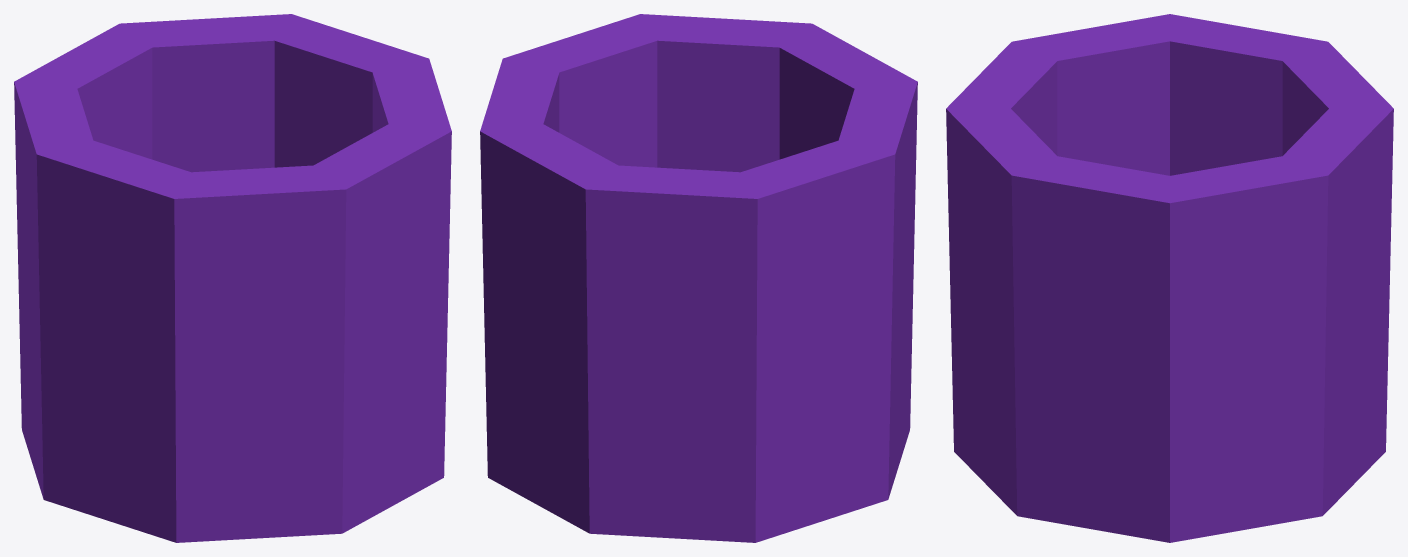
Rendered from PenCup.fbx.
The picture shows the model from 3 angles, left to right: view 1: azimuth 30°, elevation 25°; view 2: azimuth 150°, elevation 25°; view 3: azimuth 270°, elevation 25°; orthographic projection.
Parts seen in each view (by area): view 1: PenCup; view 2: PenCup; view 3: PenCup.
Part boxes in pixels (x1,y1,x2,y2): PenCup: [14, 14, 451, 542]; PenCup: [480, 14, 917, 542]; PenCup: [946, 14, 1393, 542].
Size of the model in its own units: 0.1713 by 0.1448 by 0.1713.
